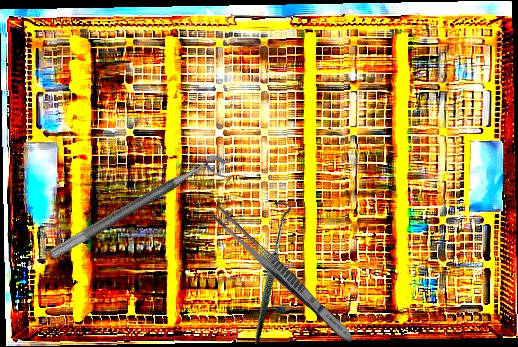Dressing Forceps: (207, 204, 359, 347)
Fixation Ring: (47, 148, 236, 275)
Hook Surgical: (197, 196, 339, 345)
